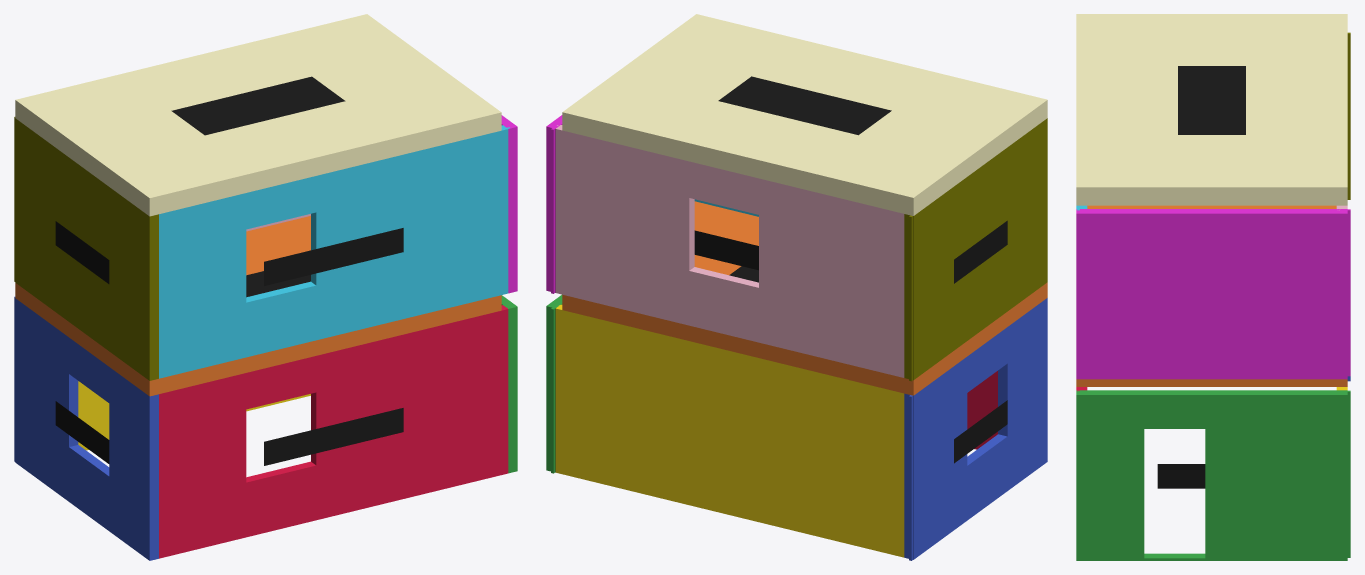
File: sample.glb
3 renders of one model, left to right at view 1: azimuth 30°, elevation 25°; view 2: azimuth 150°, elevation 25°; view 3: azimuth 270°, elevation 25°, orthographic.
Parts seen in each view (by area): view 1: R 01, EW2 01, EW1 01, EW2 04, EW1 04, F 01, EW2 02, EW1 02, EW1 03; view 2: EW1 03, R 01, EW2 03, EW2 04, EW1 04, F 01, EW1 02, EW2 02, EW1 01; view 3: R 01, EW2 02, EW1 02, F 01, EW2 04.
Part boxes in pixels (left/top/right/bottom): R 01: left=15, top=14, right=501, bottom=216; EW2 01: left=159, top=125, right=509, bottom=378; EW1 01: left=159, top=305, right=508, bottom=558; EW2 04: left=14, top=117, right=158, bottom=380; EW1 04: left=14, top=296, right=158, bottom=560; F 01: left=15, top=216, right=501, bottom=396; EW2 02: left=501, top=115, right=517, bottom=293; EW1 02: left=501, top=295, right=517, bottom=473; EW1 03: left=78, top=381, right=310, bottom=450; EW1 03: left=555, top=304, right=904, bottom=557; R 01: left=562, top=14, right=1047, bottom=215; EW2 03: left=555, top=125, right=904, bottom=377; EW2 04: left=904, top=118, right=1047, bottom=381; EW1 04: left=904, top=298, right=1047, bottom=560; F 01: left=562, top=201, right=1047, bottom=395; EW1 02: left=546, top=295, right=562, bottom=473; EW2 02: left=546, top=115, right=562, bottom=293; EW1 01: left=967, top=371, right=997, bottom=449; R 01: left=1076, top=14, right=1347, bottom=205; EW2 02: left=1076, top=209, right=1350, bottom=379; EW1 02: left=1076, top=390, right=1350, bottom=560; F 01: left=1076, top=205, right=1347, bottom=386; EW2 04: left=1347, top=32, right=1350, bottom=199.
Size of the model in its own units: 6.32 by 5.96 by 4.05.
